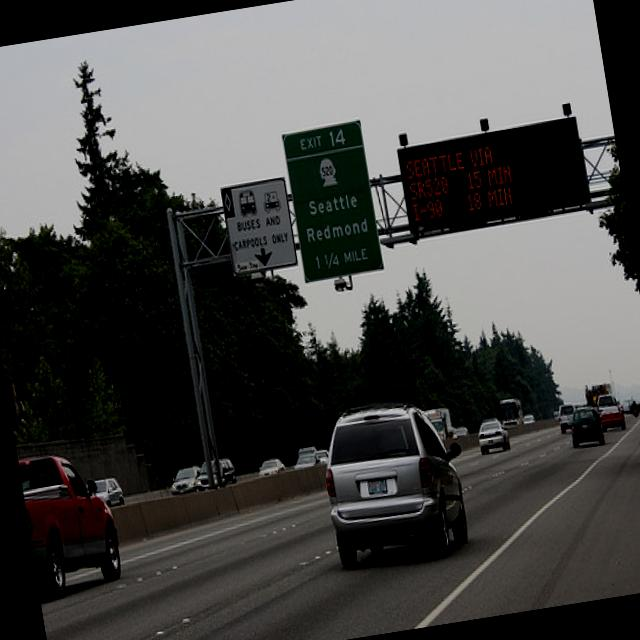Vehicle: (17, 356, 640, 600), (314, 390, 478, 572), (18, 444, 126, 604), (566, 402, 607, 450), (191, 455, 237, 492), (475, 414, 513, 458), (595, 391, 626, 433), (424, 406, 454, 444), (496, 396, 527, 430), (169, 466, 204, 496), (93, 476, 125, 506), (290, 446, 324, 471), (556, 403, 580, 434), (600, 405, 626, 433), (257, 457, 287, 477), (314, 449, 332, 468), (452, 426, 472, 438), (522, 414, 536, 424)
